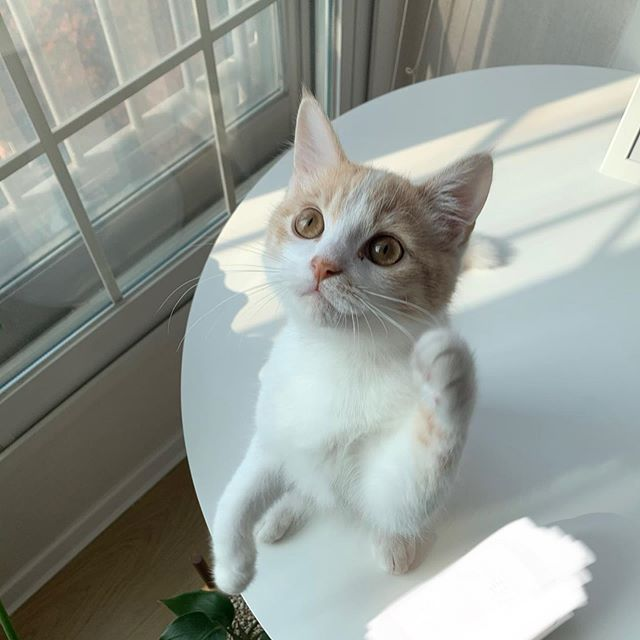cat: (255, 85, 495, 344)
